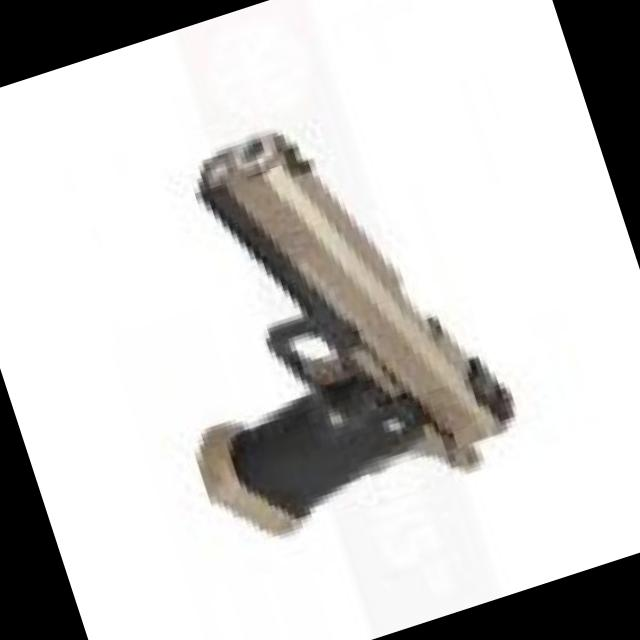knife: (85, 64, 548, 568)
